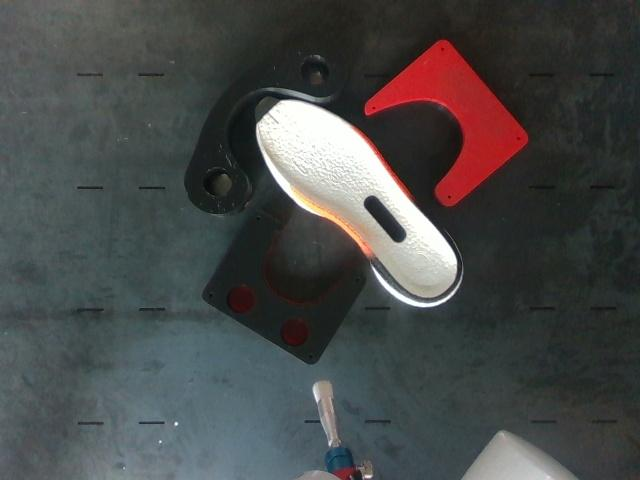shoes: (256, 97, 462, 301)
